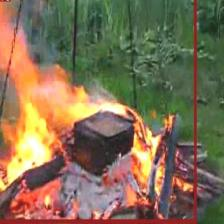fire: (0, 0, 196, 223)
